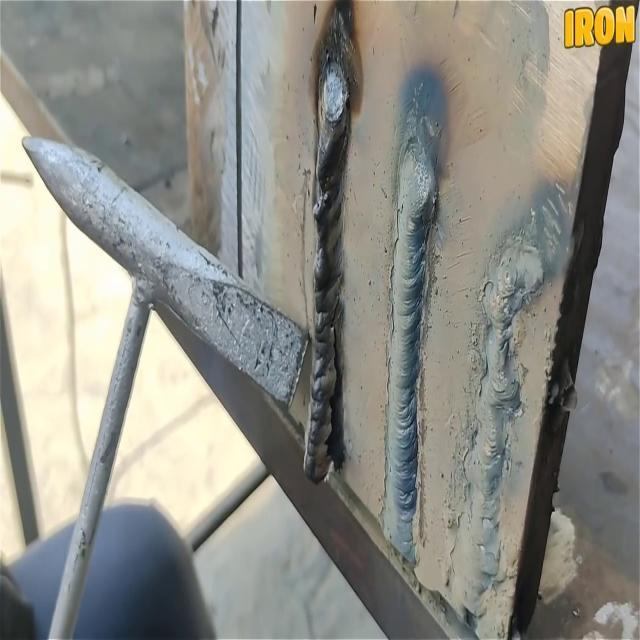Bad Welding: (452, 240, 544, 613), (384, 89, 436, 562), (304, 2, 354, 483)
Crack: (326, 302, 345, 470)
